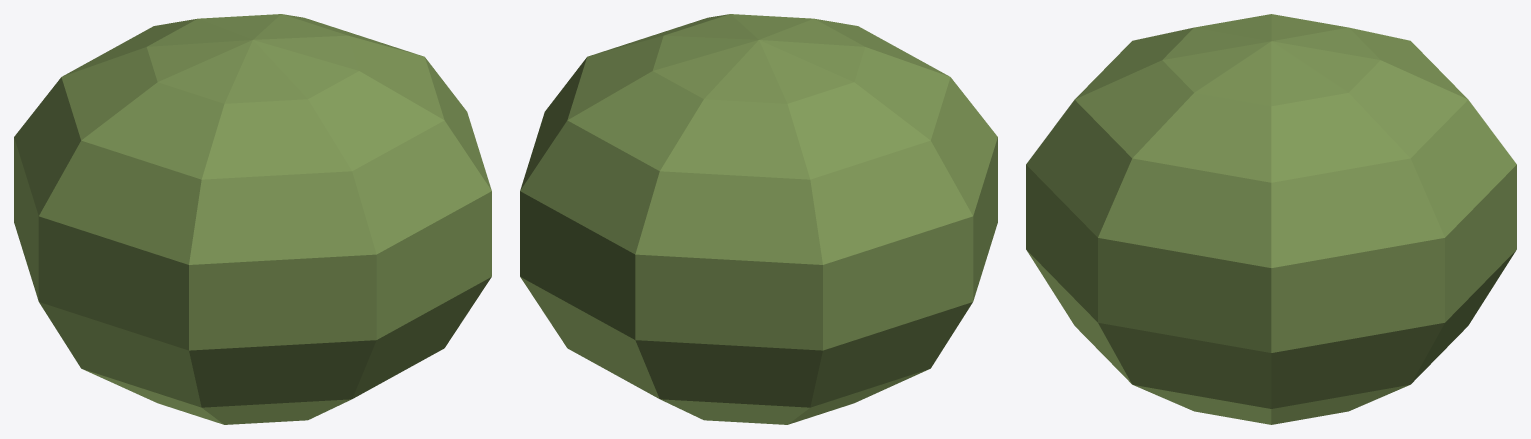
The model's file is cabbage.glb.
3 views of the same model, side by side, from view 1: azimuth 30°, elevation 25°; view 2: azimuth 150°, elevation 25°; view 3: azimuth 270°, elevation 25° (orthographic).
Parts seen in each view (by area): view 1: Sphere; view 2: Sphere; view 3: Sphere.
Part boxes in pixels (x1,y1,x2,y2): Sphere: (14, 14, 491, 424); Sphere: (520, 14, 997, 424); Sphere: (1026, 14, 1516, 424).
Bounding box in the file's own units: 1.95 × 1.56 × 1.95.
